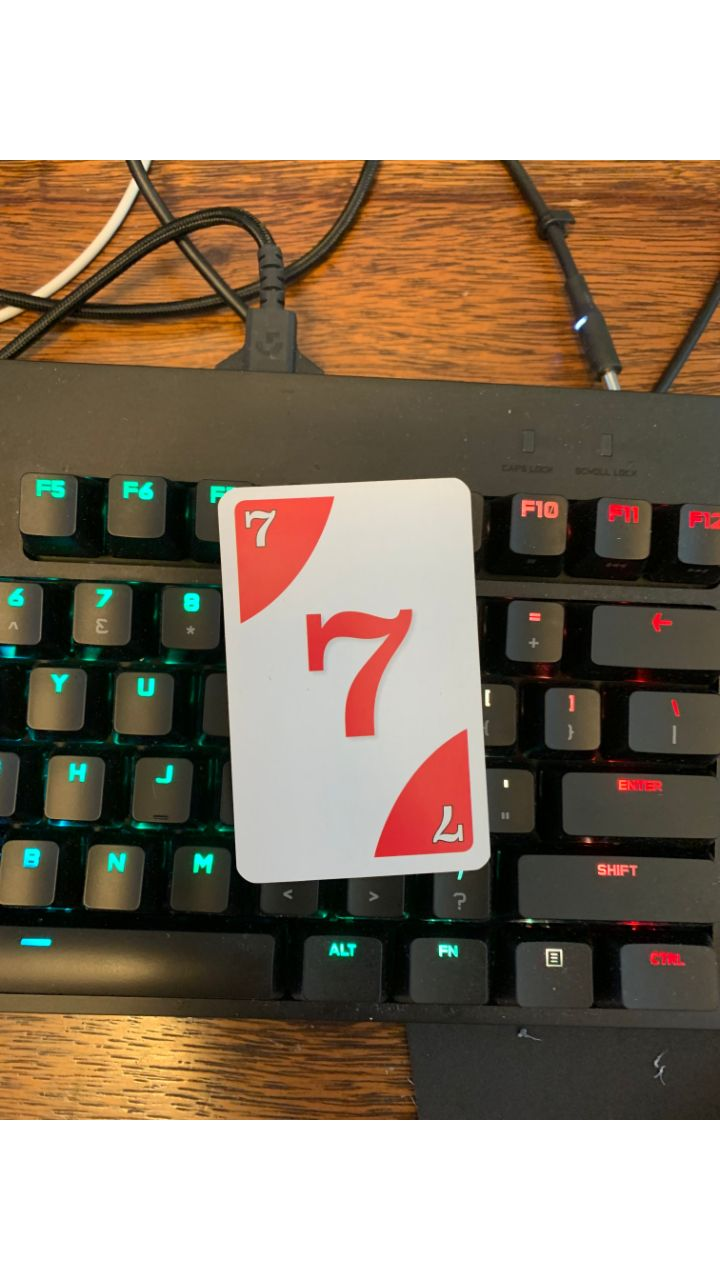seven: (209, 471, 499, 894)
